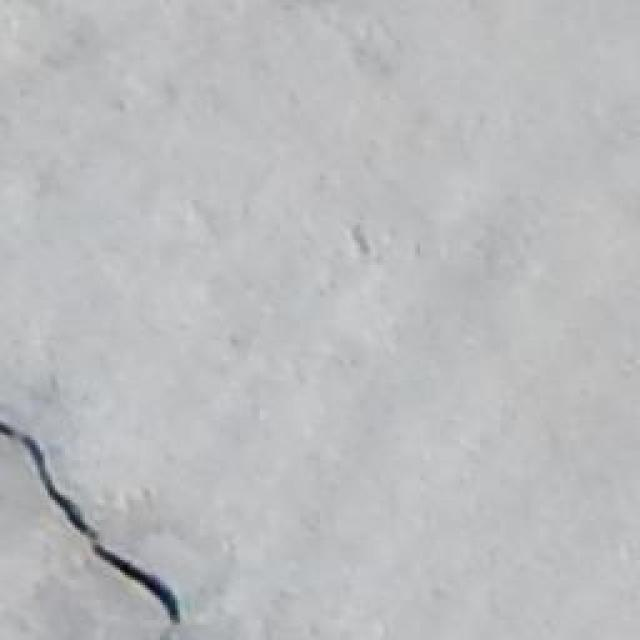concrete-crack: (0, 416, 192, 636)
